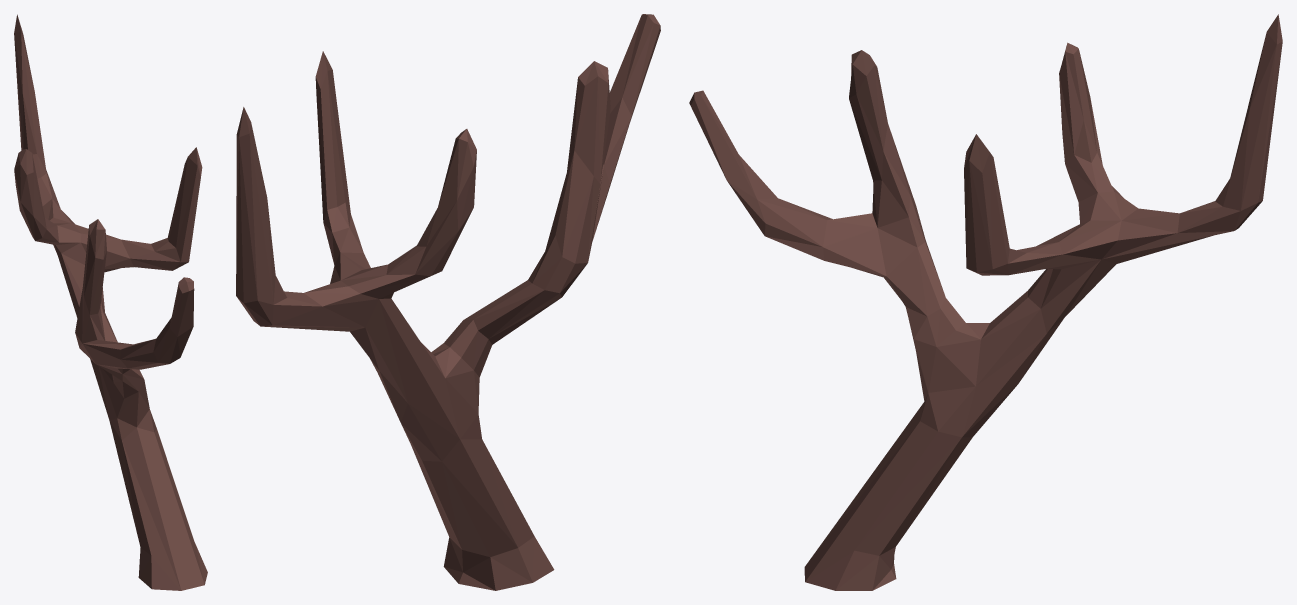
The model's file is Willow_Dead_4.lod1.glb.
The picture shows the model from 3 angles, left to right: view 1: azimuth 30°, elevation 25°; view 2: azimuth 150°, elevation 25°; view 3: azimuth 270°, elevation 25°; orthographic projection. The views are drawn at different scales.
Visible parts, largest first — view 1: Willow_Dead_4; view 2: Willow_Dead_4; view 3: Willow_Dead_4.
Boxes of the visible parts, x1,y1,x2,y2 form: Willow_Dead_4: (14,14,207,590); Willow_Dead_4: (236,14,660,590); Willow_Dead_4: (689,14,1282,590).
Bounding box in the file's own units: 1.01 × 2.72 × 2.59.
